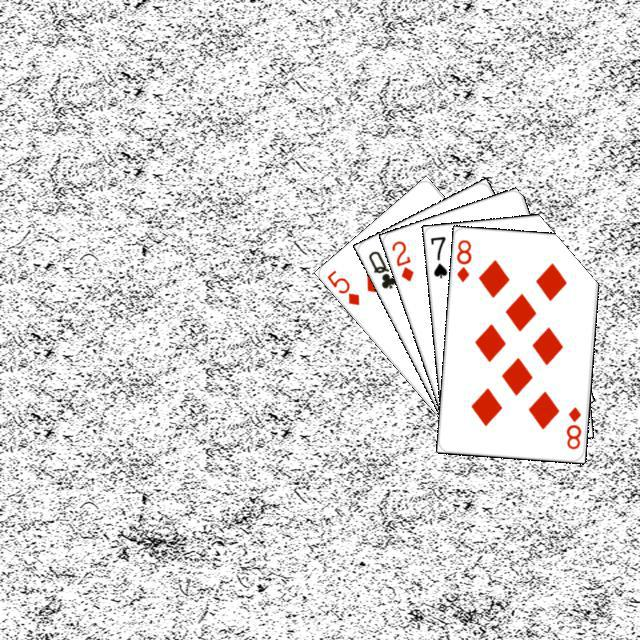2d: (387, 235, 416, 283)
5d: (322, 265, 361, 307)
7s: (425, 232, 449, 280)
8d: (561, 402, 583, 451), (452, 235, 473, 283)
Qc: (363, 246, 404, 291)
